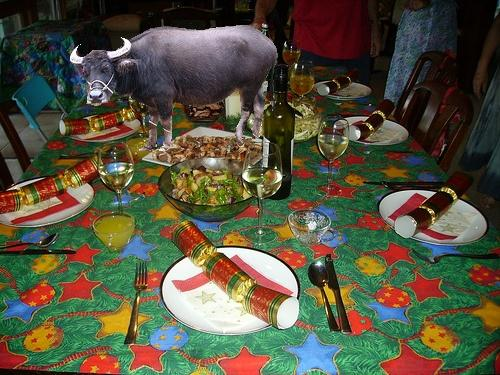tampered: (71, 26, 278, 151)
